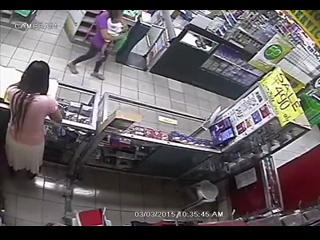Normal: (4, 60, 64, 180), (67, 10, 127, 80)
